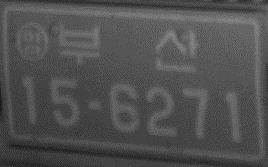-: (85, 95, 104, 113)
1: (221, 89, 248, 143), (17, 73, 42, 126)
2: (143, 84, 181, 137)
5: (48, 74, 81, 130)
6: (108, 80, 142, 134)
7: (181, 84, 211, 141)
부산_D: (56, 17, 201, 74)
영: (14, 21, 51, 61)
